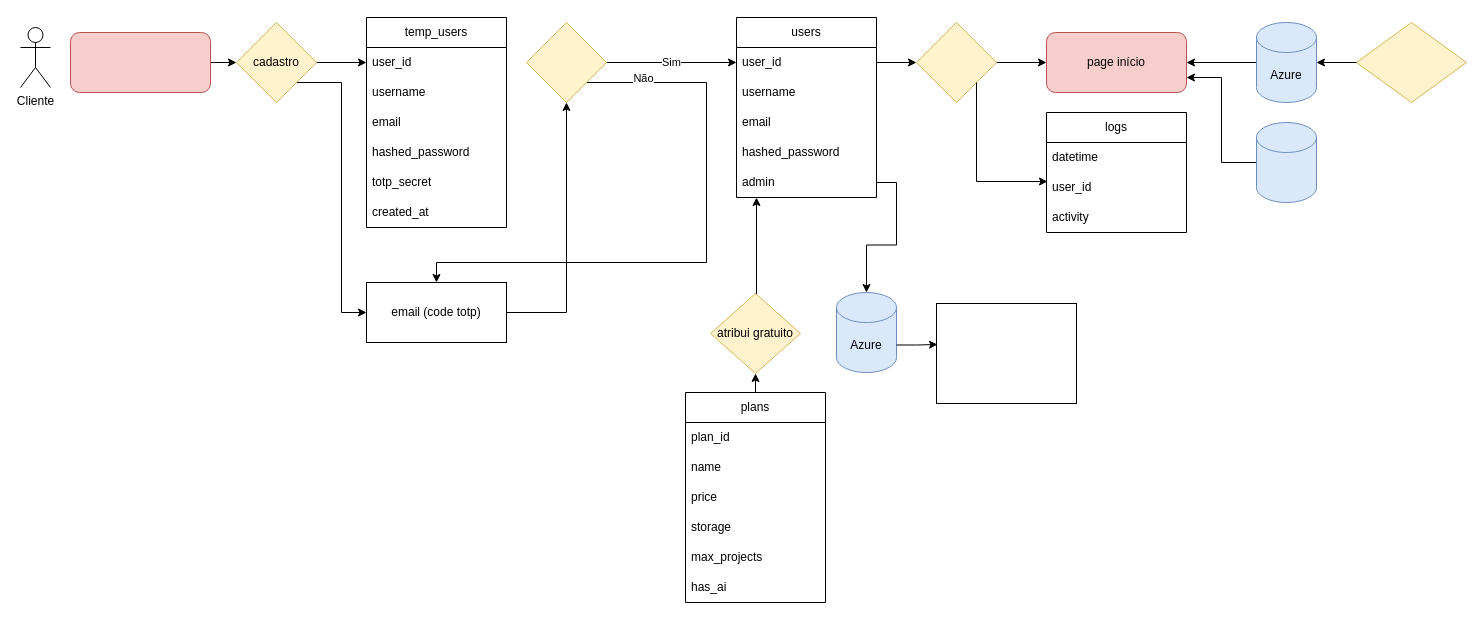
Some shapes in this 1484 by 620 pixel diagram are drawn without their labels. The centre of each missing label's shape, as x and y in pixels:
confirma?: the point at 566,62
cria pasta projetos: gemeo_digital tour_360 midia relatorios: the point at 1006,353
login: the point at 956,62
Neon: the point at 1286,162
page login/signup: the point at 140,62
sem projetos = demo: the point at 1411,62
